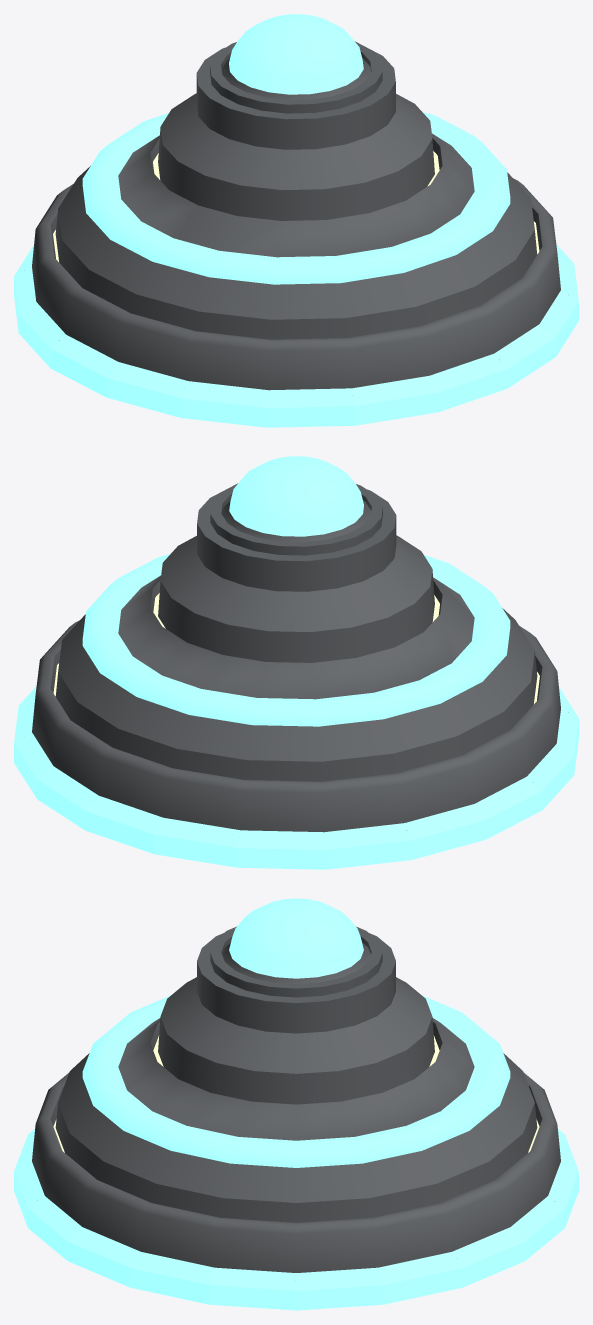
File: SM_ProjecteurHolo_04.fbx
The picture shows the model from 3 angles, top to bottom: view 1: azimuth 30°, elevation 25°; view 2: azimuth 150°, elevation 25°; view 3: azimuth 270°, elevation 25°; orthographic projection.
Parts seen in each view (by area): view 1: SM_ProjecteurHolo_04; view 2: SM_ProjecteurHolo_04; view 3: SM_ProjecteurHolo_04.
Boxes of the visible parts, box(x1,y1,x2,y2) form: SM_ProjecteurHolo_04: box(14, 14, 578, 427); SM_ProjecteurHolo_04: box(14, 456, 578, 869); SM_ProjecteurHolo_04: box(14, 898, 578, 1310).
Size of the model in its own units: 6.8 by 3.81 by 6.8.
